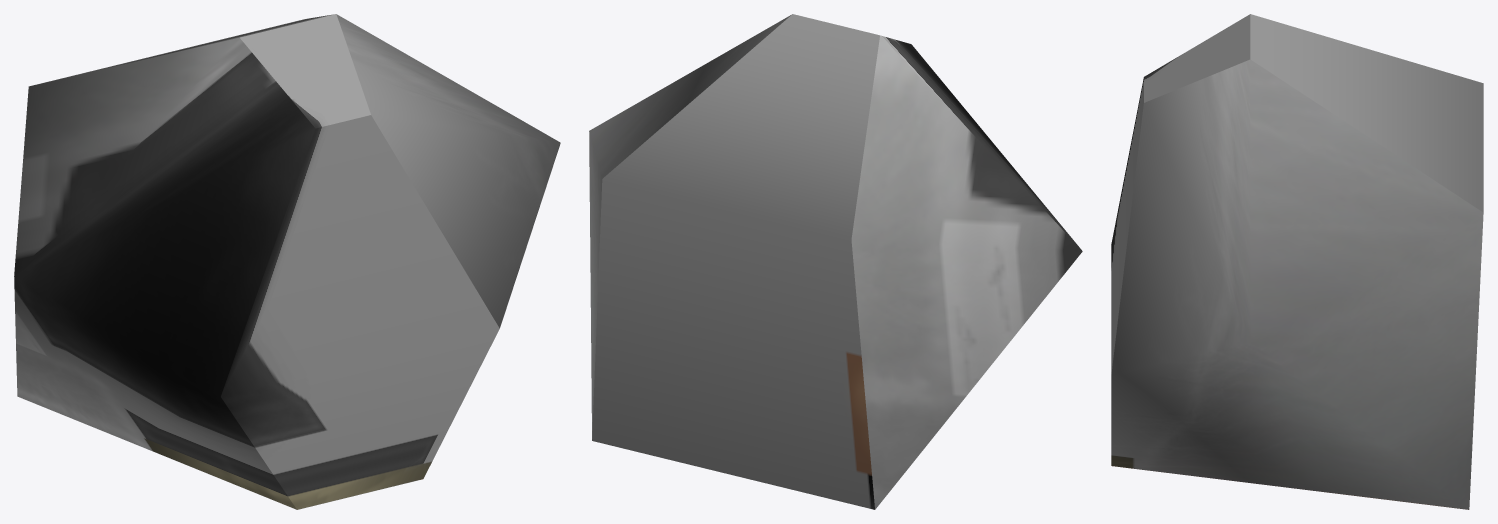
Rendered from Mariner4_Dish_collider.dae.
The picture shows the model from 3 angles, left to right: view 1: azimuth 30°, elevation 25°; view 2: azimuth 150°, elevation 25°; view 3: azimuth 270°, elevation 25°; orthographic projection. The views are drawn at different scales.
Parts seen in each view (by area): view 1: mariner4_collider; view 2: mariner4_collider; view 3: mariner4_collider.
Boxes of the visible parts, box(x1,y1,x2,y2) form: mariner4_collider: box(14, 14, 560, 509); mariner4_collider: box(589, 14, 1082, 509); mariner4_collider: box(1111, 14, 1483, 509).
Size of the model in its own units: 0.4891 by 0.3555 by 0.3.
